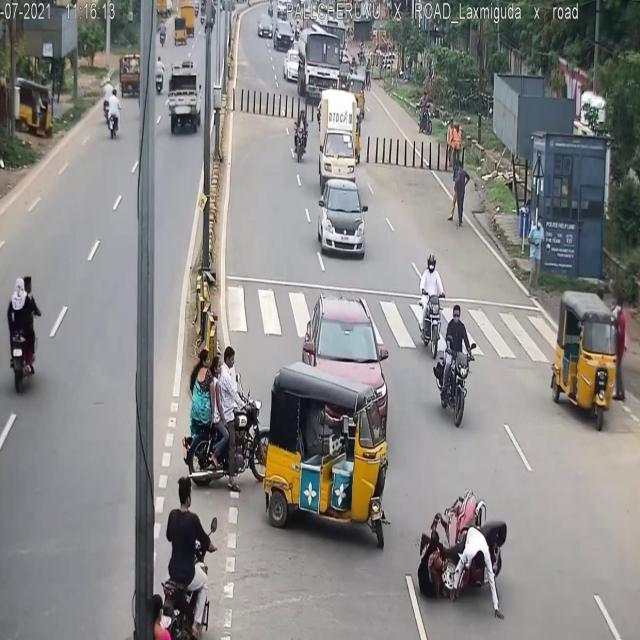accident: (410, 480, 516, 628)
non_accident: (281, 26, 371, 266), (257, 11, 295, 53), (170, 0, 198, 53)
